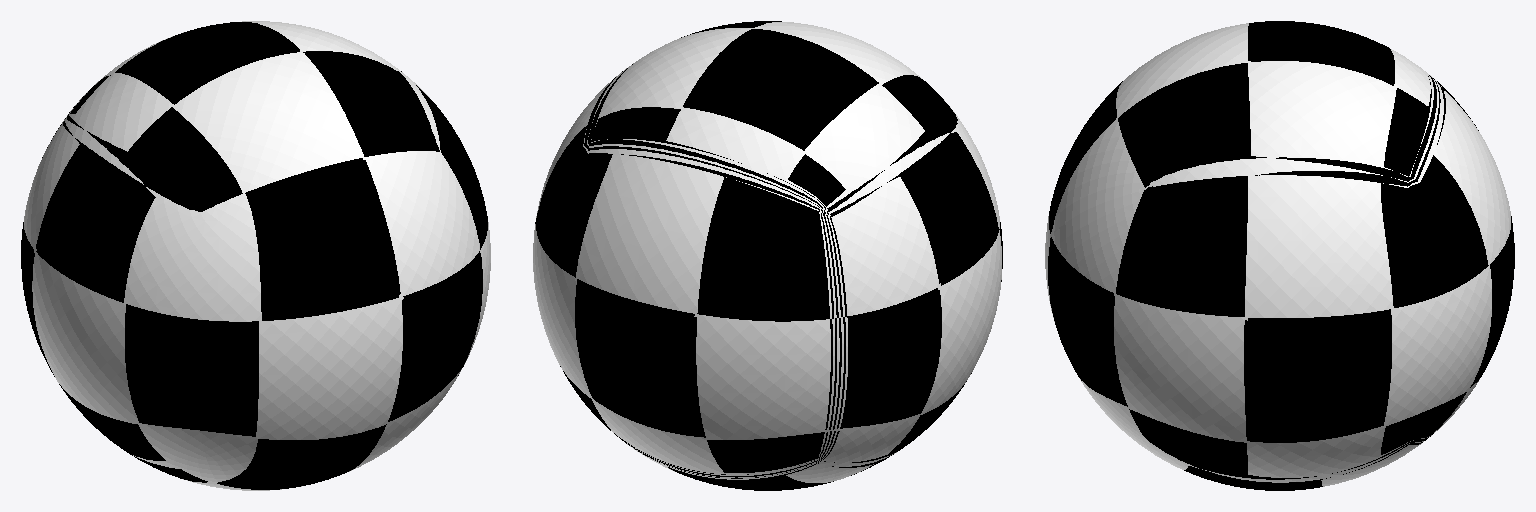
3 views of the same model, side by side, from view 1: azimuth 30°, elevation 25°; view 2: azimuth 150°, elevation 25°; view 3: azimuth 270°, elevation 25° (orthographic).
Parts seen in each view (by area): view 1: dSphere; view 2: dSphere; view 3: dSphere.
Boxes of the visible parts, x1,y1,x2,y2 form: dSphere: [21, 21, 490, 490]; dSphere: [533, 21, 1002, 490]; dSphere: [1045, 21, 1514, 490].
Size of the model in its own units: 1.29 by 1.29 by 1.29.
1 materials, 1 textured.